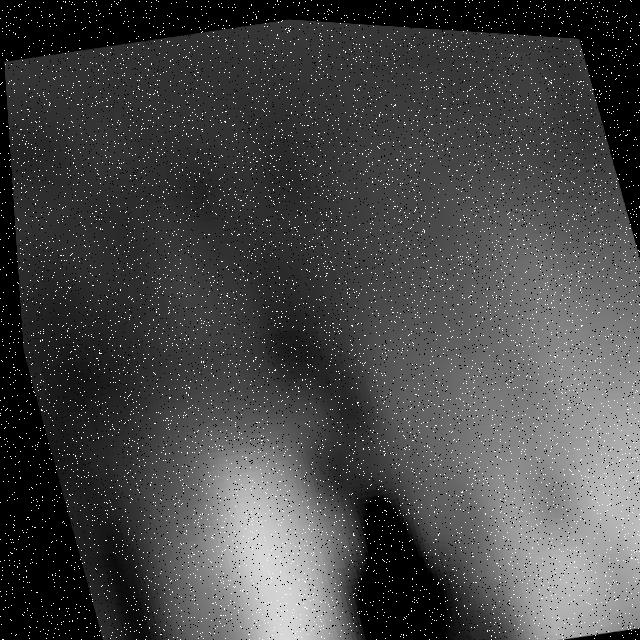person: (266, 15, 640, 640), (79, 239, 412, 640), (451, 81, 640, 632)
